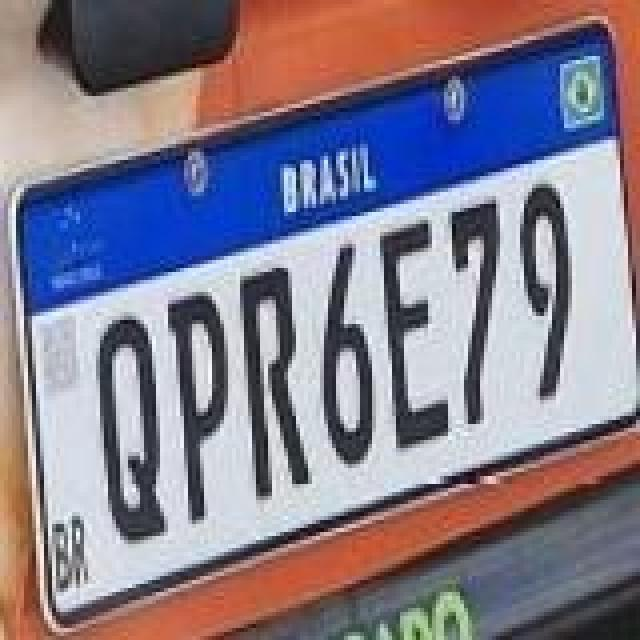6: (322, 240, 382, 464)
7: (444, 196, 500, 428)
9: (516, 182, 572, 402)
E: (380, 214, 452, 450)
P: (164, 288, 228, 528)
Q: (90, 312, 166, 544)
R: (236, 266, 308, 502)
